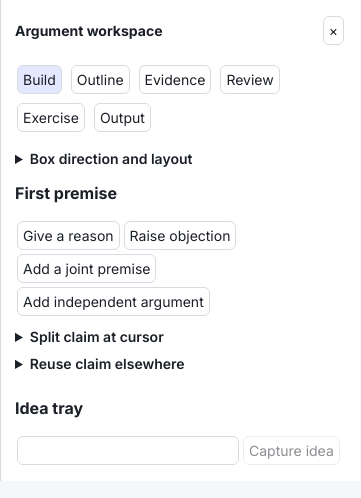
Test case: lets a teacher select claims for a downloadable worksheet
Step 1. Click the button "Exercise" → (51, 118), box 17,103 -> 85,132
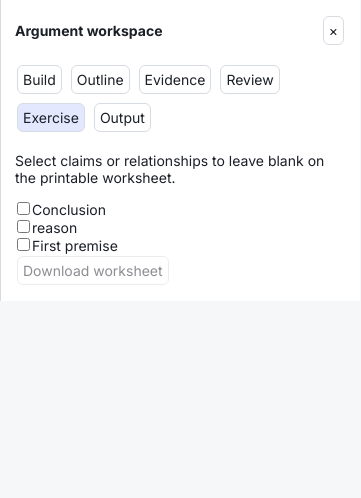
Now the button "Download worksheet" is disabled, box 17,256 -> 169,285
Step 2. Click the checkbox labelled "Conclusion" → (24, 208), box 17,202 -> 30,215
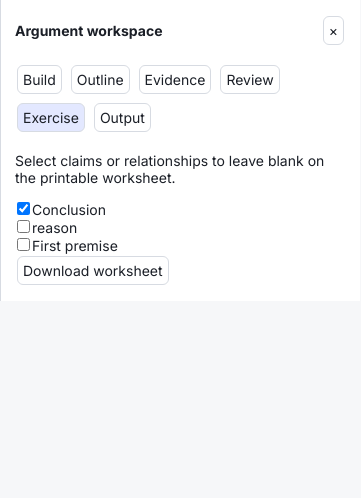
Now the button "Download worksheet" is enabled, box 17,256 -> 169,285
